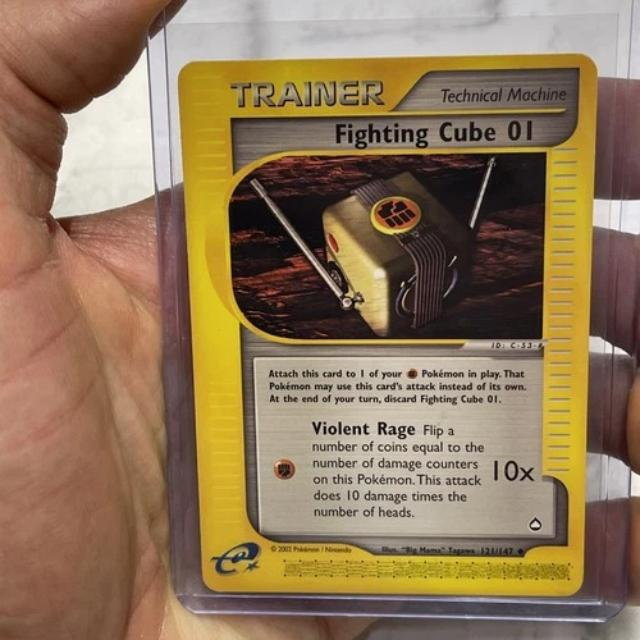Card: (170, 48, 602, 601)
Name: (328, 112, 544, 152)
